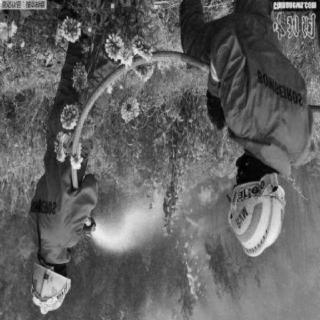Fire: (192, 186, 224, 216)
other: (0, 18, 18, 46)
